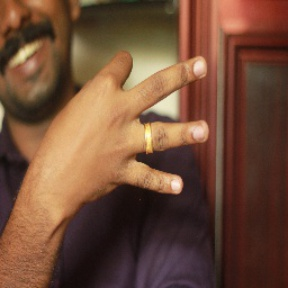K: (35, 49, 212, 218)
